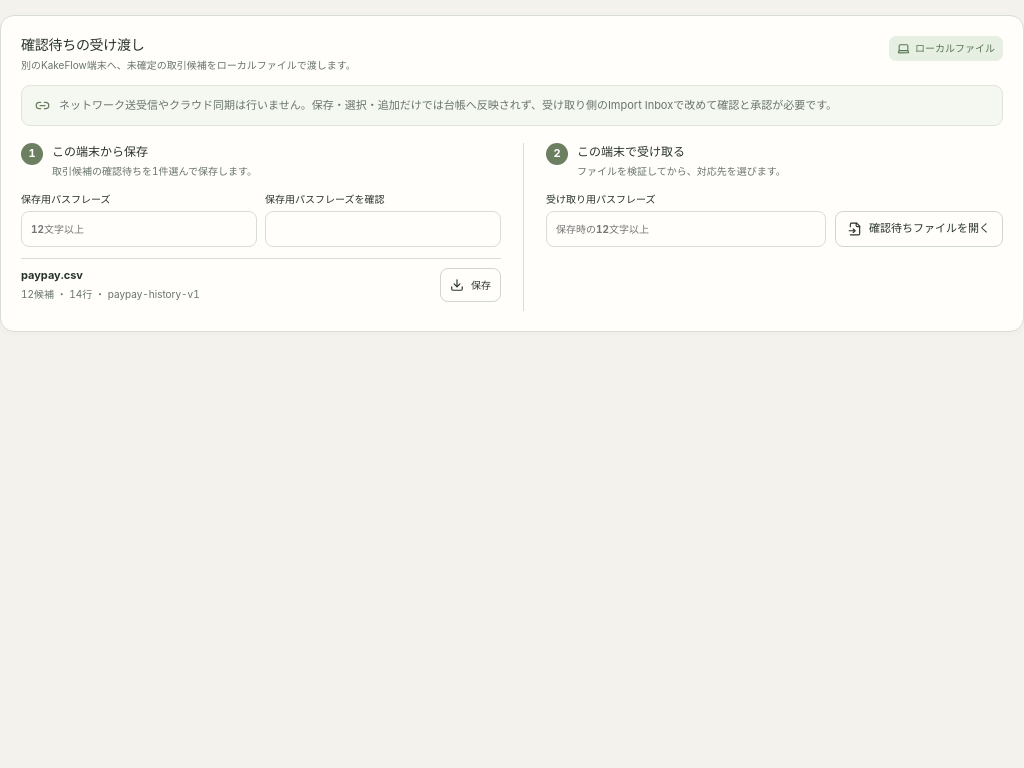
Test: PendingImportHandoffPanel › labels an already-applied package and reopens the existing review without inheriting approvals
The width and height of the screenshot is (1024, 768).
Type "long-enough-passphrase" into the password field labelled "受け取り用パスフレーズ" at (686, 229), box [546, 211, 826, 247]
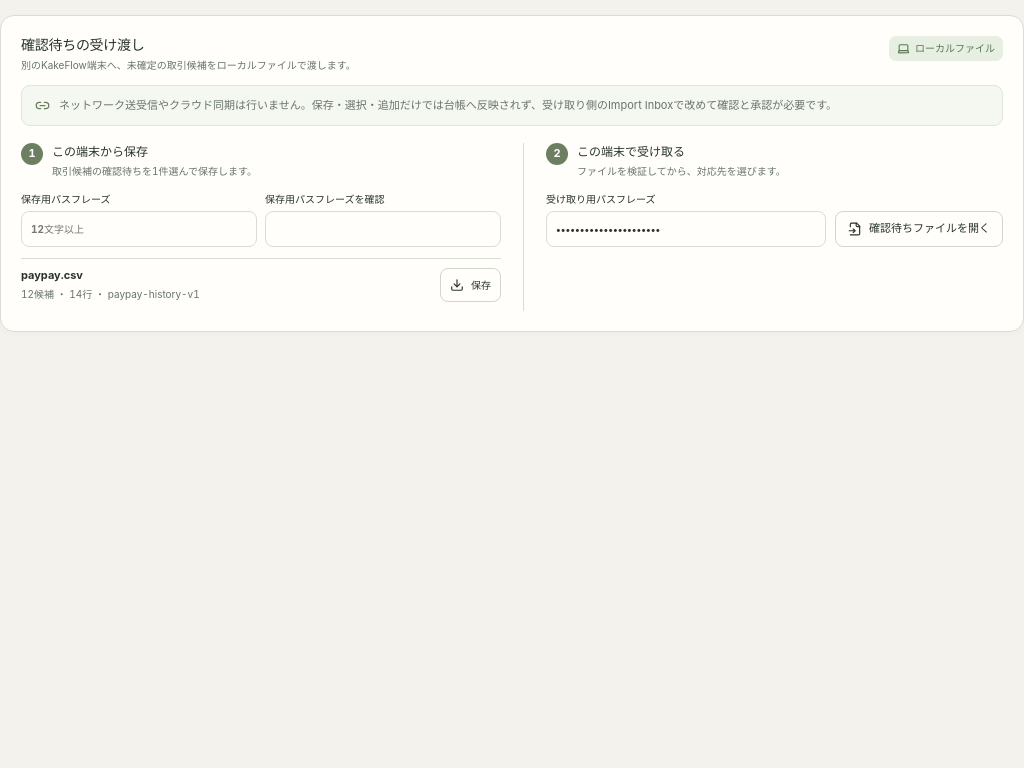
Click the button "確認待ちファイルを開く" at (919, 229), box [835, 211, 1003, 247]
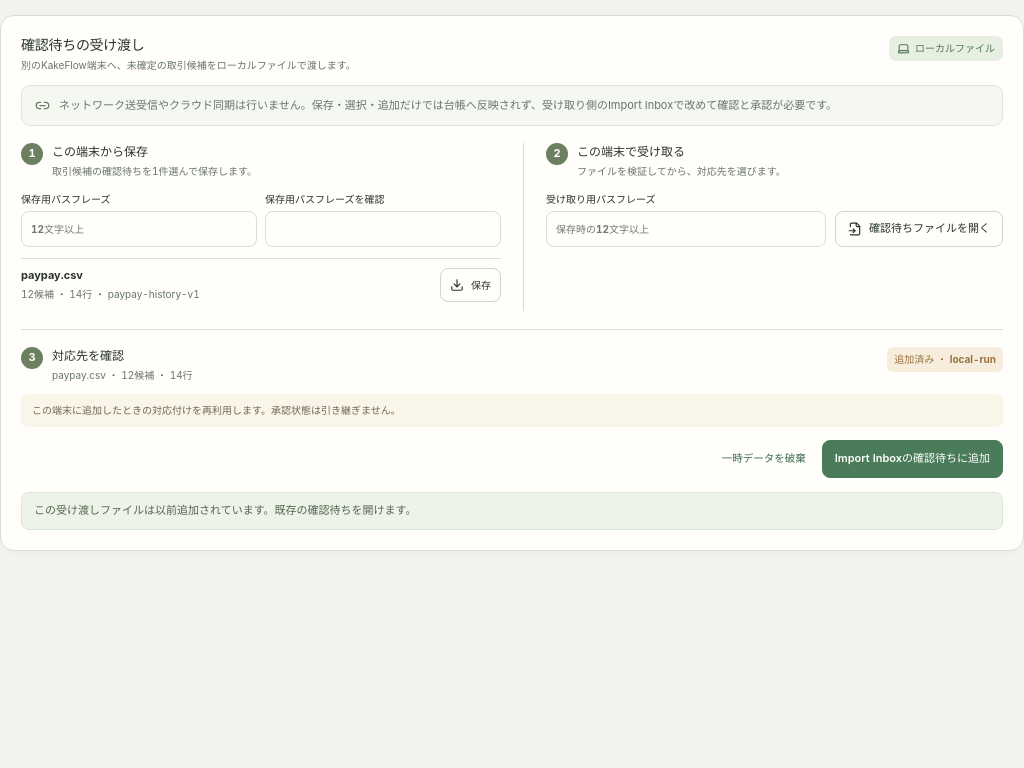
Result: the text "追加済み ・ local-run" is shown at [887, 347, 1003, 372]
Result: the button "Import Inboxの確認待ちに追加" is enabled
Result: the text "この端末に追加したときの対応付けを再利用します。承認状態は引き継ぎません。" is shown at [21, 394, 1003, 427]
Click the button "Import Inboxの確認待ちに追加" at (912, 459), box [822, 440, 1003, 478]
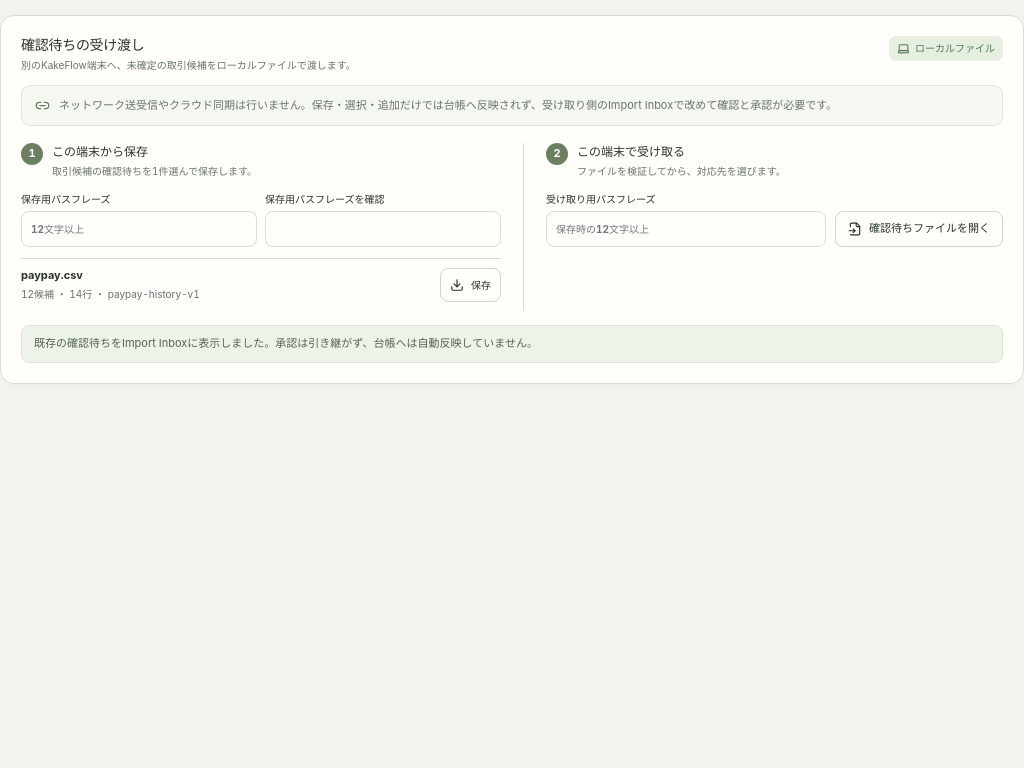
Result: the text "既存の確認待ちをImport Inboxに表示しました。承認は引き継がず、台帳へは自動反映していません。" is shown at [21, 325, 1003, 363]
